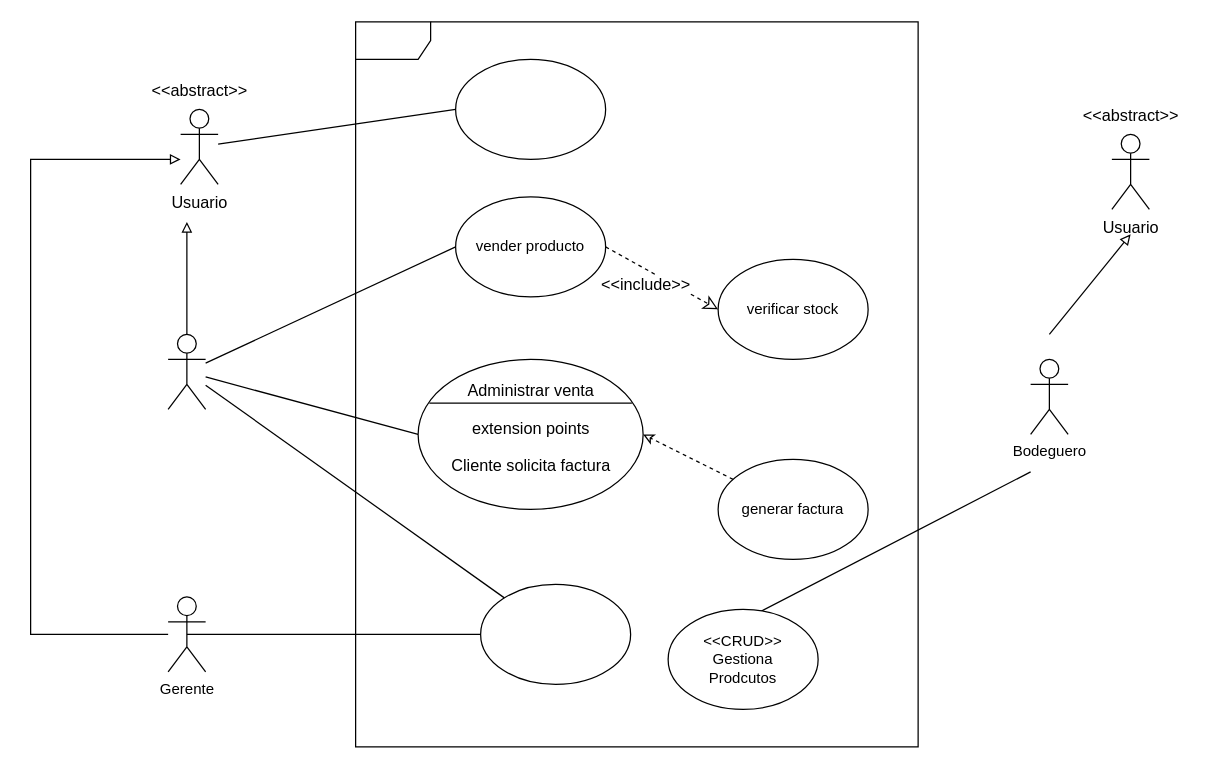
Some shapes in this 1215 by 769 pixel diagram are drawn without their labels. Each missing label, with the box of its shape:
E-mart: (354, 21, 918, 747)
genera informe: (479, 583, 631, 684)
iniciar seccion: (454, 58, 606, 159)
Vendedor: (167, 333, 206, 409)
